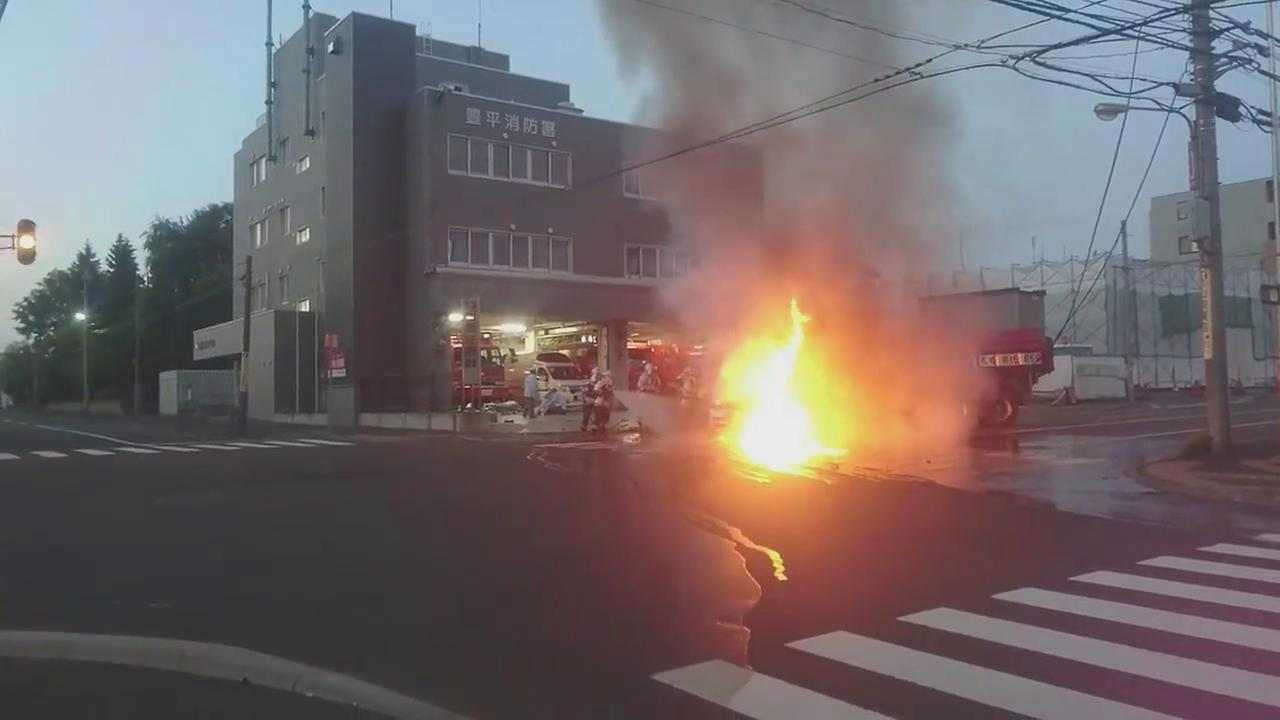Fire: (710, 305, 845, 471)
